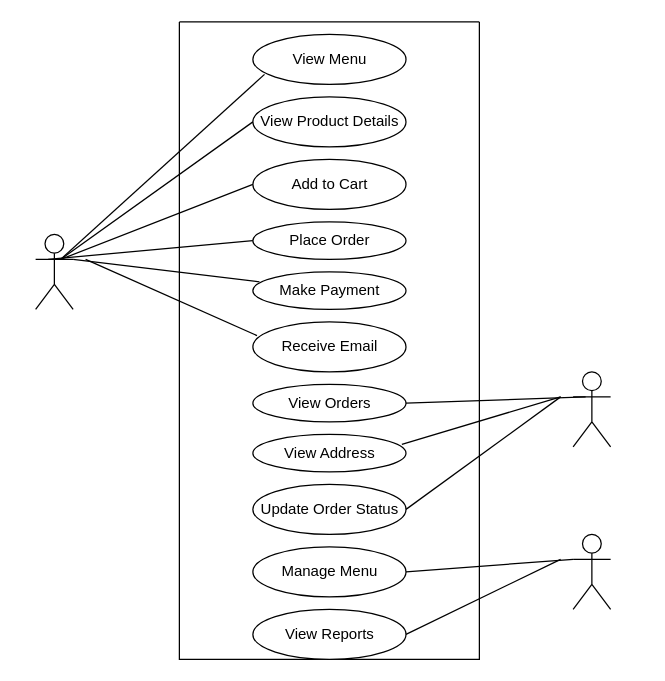
This 665x681 diagram has some shape labels left out. Each missing label, with the centre of its shape:
Customer: [53,271]
Owner Ms.Pam: [591,571]
Staff Member: [591,409]
